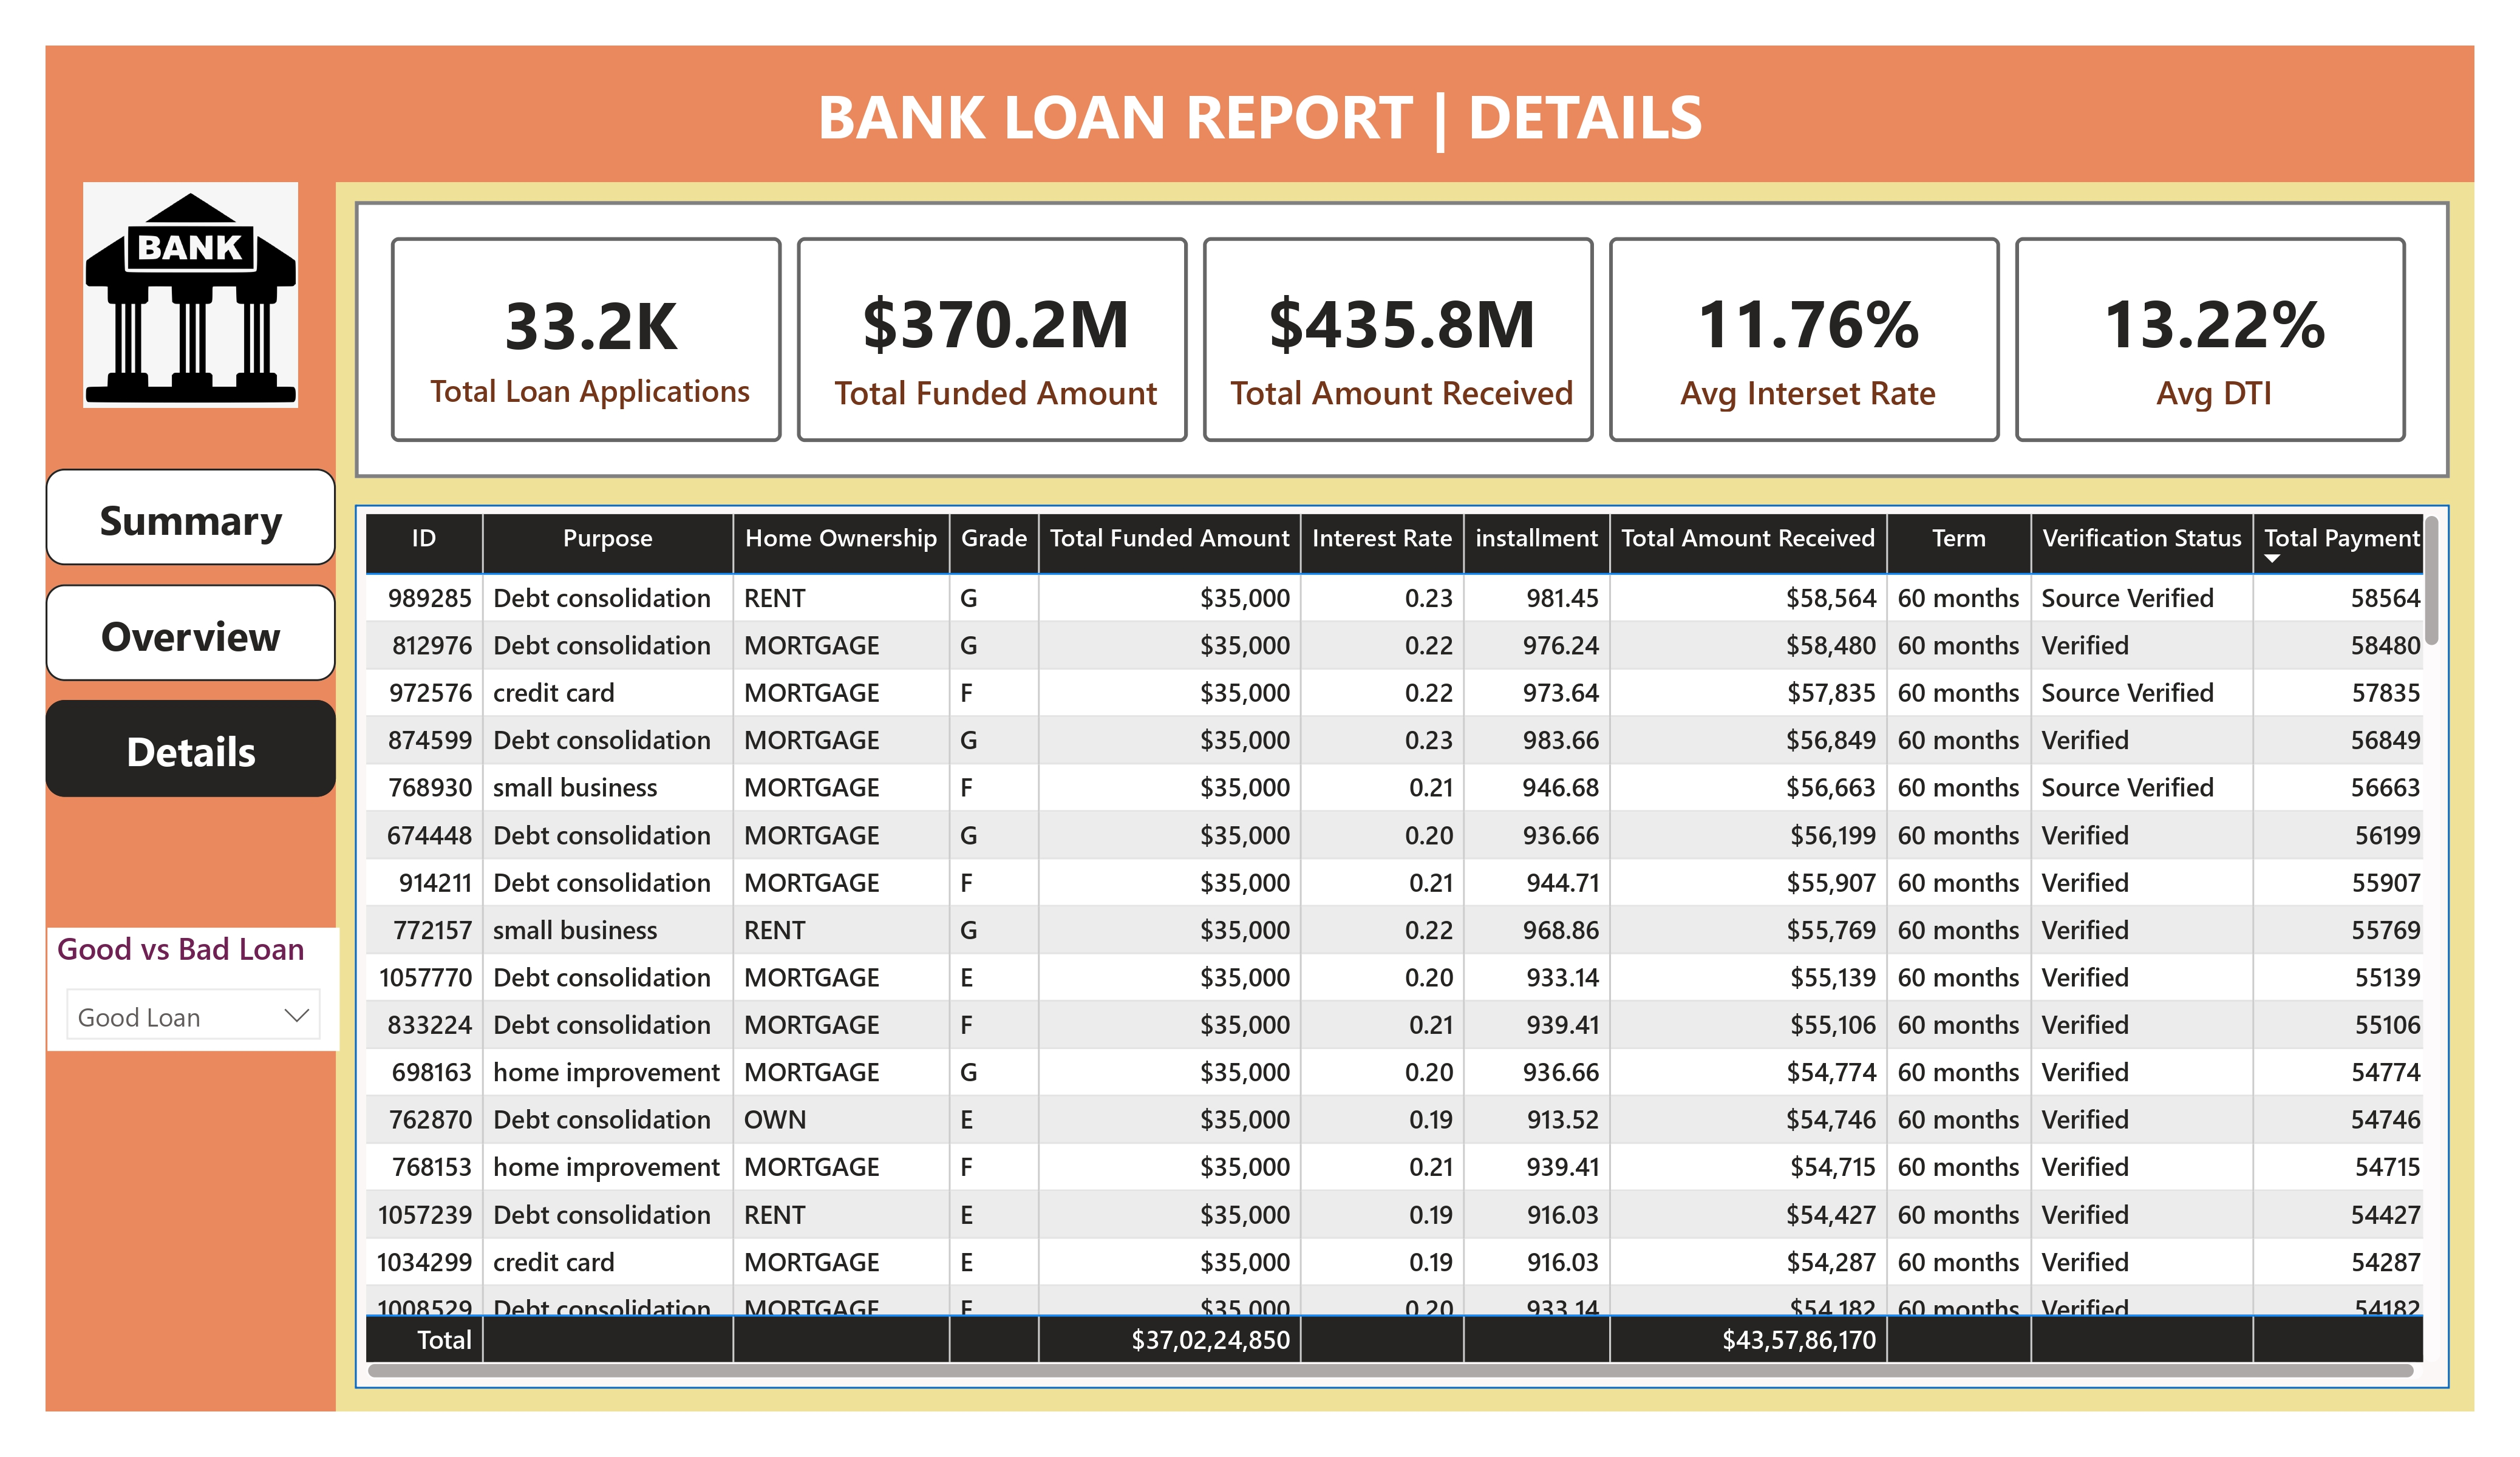

This screenshot's page, from the dashboard's own definition file:
{"tool":"powerbi","page":{"name":"Details","canvas":[1280,720],"ordinal":2},"visuals":[{"type":"shape","box":[0,0,1280,72.1],"z":0},{"type":"shape","box":[0,72.1,153,648.1],"z":1000},{"type":"textbox","box":[365.1,8.7,549.8,63.4],"z":2000},{"type":"textbox","box":[174.2,92.1,192.8,38.6],"z":3000},{"type":"shape","box":[163.2,241.7,1104.3,466.3],"z":4000},{"type":"pageNavigator","box":[0,223.3,153.4,173],"z":5000},{"type":"image","box":[0,72.4,153.4,119],"z":6000},{"type":"cardVisual","fields":{"Data":["financial_loan.Total Loan Applications","financial_loan.Total Funded Amount","financial_loan.Total Amount Received","Date Table.Avg Interset Rate","financial_loan.Avg DTI"]},"box":[163.2,82.2,1104.3,146],"z":17000},{"type":"slicer","title":"Good vs Bad Loan","fields":{"Values":["financial_loan.Good vs Bad Loans"]},"box":[1.2,465,153.4,65],"z":19000},{"type":"tableEx","fields":{"Values":["financial_loan.id","financial_loan.purpose","financial_loan.home_ownership","financial_loan.grade","financial_loan.Total Funded Amount","financial_loan.int_rate","financial_loan.installment","financial_loan.Total Amount Received","financial_loan.term","financial_loan.verification_status","financial_loan.total_payment"]},"box":[163.2,241.7,1104.3,466.3],"z":19001}]}

Visuals, with their boxes on the page's 1280x720 design canvas (x1, y1, x2, y2). These are canvas units, not pixel positions in the 2520x1457 screenshot, which may show the page scaled, cropped or inside an application window:
shape: (0, 0, 1280, 72)
shape: (0, 72, 153, 720)
textbox: (365, 9, 915, 72)
textbox: (174, 92, 367, 131)
shape: (163, 242, 1268, 708)
pageNavigator: (0, 223, 153, 396)
image: (0, 72, 153, 191)
cardVisual - financial_loan.Total Loan Applications x financial_loan.Total Funded Amount: (163, 82, 1268, 228)
"Good vs Bad Loan" slicer: (1, 465, 155, 530)
tableEx - financial_loan.id x financial_loan.purpose: (163, 242, 1268, 708)
